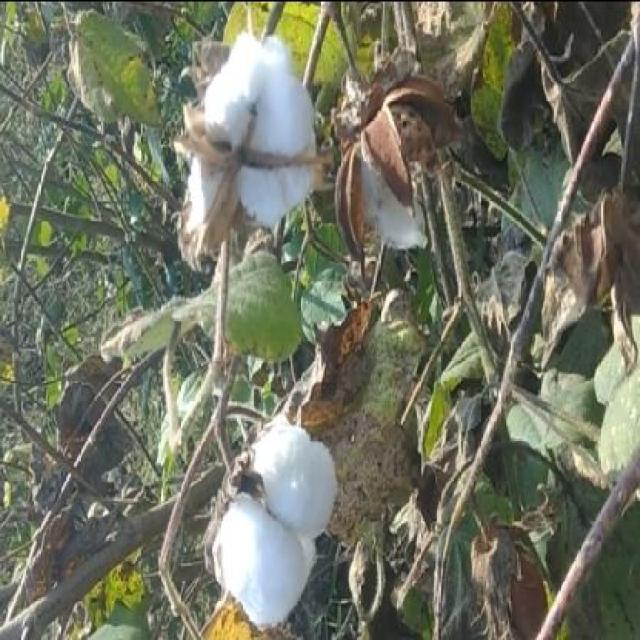cotton_ready: (158, 35, 340, 300), (198, 379, 364, 619)
